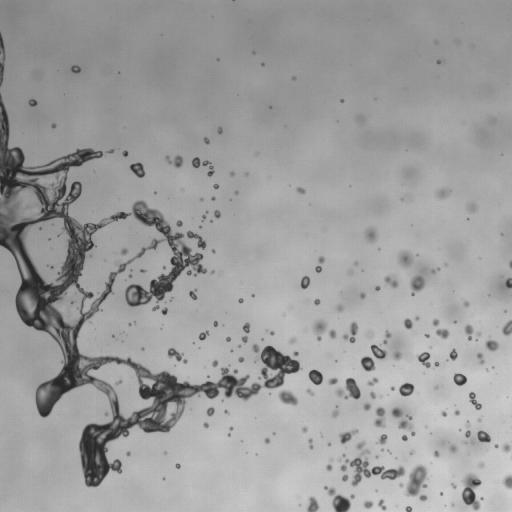droplet: (404, 464, 429, 501), (323, 485, 355, 511), (311, 318, 336, 342), (334, 377, 361, 399), (342, 321, 358, 343), (278, 389, 298, 406), (409, 275, 425, 296), (338, 428, 358, 444), (397, 250, 414, 268), (370, 344, 387, 361), (416, 352, 433, 369), (373, 406, 386, 428), (129, 162, 145, 178), (308, 369, 323, 385), (364, 226, 378, 243), (165, 155, 183, 168), (360, 356, 375, 371), (398, 382, 414, 396), (453, 372, 467, 386), (306, 496, 319, 511), (435, 187, 451, 199), (384, 275, 398, 288), (485, 339, 499, 351), (445, 348, 457, 362), (501, 319, 511, 335), (477, 430, 490, 442), (299, 275, 310, 289), (435, 328, 449, 339), (464, 324, 473, 340), (502, 474, 511, 489), (501, 440, 511, 453), (466, 202, 477, 213), (66, 205, 77, 216), (75, 214, 86, 225), (163, 214, 174, 225), (186, 238, 197, 249), (158, 240, 169, 251), (188, 243, 199, 254), (131, 258, 142, 269), (406, 266, 417, 277), (391, 267, 402, 278), (422, 274, 433, 285), (186, 276, 197, 287), (112, 280, 123, 291), (139, 302, 150, 313), (312, 308, 323, 319), (305, 314, 316, 325), (247, 331, 258, 342), (492, 331, 503, 342), (442, 338, 453, 349), (240, 344, 251, 355), (279, 345, 290, 356), (88, 347, 99, 358), (243, 348, 254, 359), (450, 361, 461, 372), (50, 365, 61, 376), (297, 367, 308, 378), (354, 367, 365, 378), (210, 371, 221, 382), (355, 378, 366, 389), (281, 379, 292, 390), (60, 391, 71, 402), (184, 395, 195, 406), (209, 396, 220, 407), (220, 415, 231, 426), (410, 418, 421, 429), (383, 423, 394, 434), (129, 424, 140, 435), (333, 441, 344, 452), (368, 441, 379, 452), (70, 448, 81, 459), (73, 465, 84, 476), (331, 467, 342, 478), (399, 473, 410, 484), (407, 495, 418, 506), (375, 434, 387, 444), (377, 498, 386, 511), (355, 114, 365, 125), (198, 330, 209, 340), (366, 377, 378, 386), (331, 405, 339, 418), (403, 318, 412, 329), (189, 288, 197, 300), (334, 303, 344, 312), (364, 330, 374, 339), (70, 65, 81, 73), (327, 377, 338, 385), (393, 351, 402, 360), (78, 141, 87, 150), (182, 157, 191, 166), (21, 159, 30, 168), (82, 159, 91, 168), (209, 174, 218, 183), (207, 202, 216, 211), (123, 204, 132, 213), (375, 229, 384, 238), (356, 230, 365, 239), (374, 236, 383, 245), (390, 254, 399, 263), (307, 269, 316, 278), (141, 281, 150, 290), (365, 288, 374, 297), (427, 325, 436, 334), (320, 330, 329, 339), (231, 335, 240, 344), (481, 347, 490, 356), (150, 365, 159, 374), (365, 369, 374, 378), (337, 379, 346, 388), (83, 382, 92, 391), (258, 386, 267, 395), (335, 396, 344, 405), (207, 397, 216, 406), (370, 399, 379, 408), (52, 401, 61, 410), (103, 403, 112, 412), (400, 406, 409, 415), (383, 410, 392, 419), (97, 416, 106, 425), (374, 426, 383, 435), (73, 431, 82, 440), (104, 440, 113, 449), (439, 446, 448, 455), (105, 453, 114, 462), (331, 461, 340, 470), (403, 465, 412, 474), (346, 466, 355, 475), (474, 470, 483, 479), (456, 481, 465, 490), (472, 485, 481, 494), (287, 336, 297, 344), (206, 406, 214, 416), (363, 500, 373, 508), (213, 209, 221, 218), (449, 444, 457, 453), (505, 277, 511, 288), (369, 505, 380, 511), (463, 505, 474, 511), (306, 388, 314, 396), (363, 402, 371, 410), (28, 99, 37, 106), (296, 187, 305, 194), (440, 408, 447, 417), (120, 248, 128, 255), (46, 264, 54, 271), (432, 318, 439, 326), (369, 391, 376, 399), (313, 298, 320, 305), (450, 482, 457, 489), (2, 68, 9, 75), (3, 103, 10, 110), (6, 112, 13, 119), (7, 122, 14, 129), (6, 141, 13, 148), (115, 149, 122, 156), (68, 165, 75, 172), (202, 165, 209, 172), (435, 182, 442, 189), (210, 188, 217, 195), (443, 196, 450, 203), (147, 202, 154, 209), (111, 207, 118, 214), (206, 212, 213, 219), (178, 226, 185, 233), (169, 228, 176, 235), (204, 243, 211, 250), (195, 246, 202, 253), (409, 248, 416, 255), (166, 250, 173, 257), (412, 256, 419, 263), (166, 263, 173, 270), (352, 265, 359, 272), (162, 268, 169, 275), (14, 279, 21, 286), (377, 279, 384, 286), (163, 290, 170, 297), (158, 300, 165, 307), (9, 303, 16, 310), (10, 306, 17, 313), (92, 311, 99, 318), (499, 319, 506, 326), (81, 321, 88, 328), (437, 322, 444, 329), (325, 323, 332, 330), (471, 325, 478, 332), (77, 328, 84, 335), (38, 329, 45, 336), (335, 330, 342, 337), (429, 330, 436, 337), (246, 338, 253, 345), (257, 343, 264, 350), (274, 344, 281, 351), (77, 347, 84, 354), (235, 349, 242, 356), (100, 350, 107, 357), (366, 350, 373, 357), (385, 351, 392, 358), (119, 352, 126, 359), (398, 356, 405, 363), (140, 360, 147, 367), (217, 360, 224, 367), (233, 361, 240, 368), (234, 372, 241, 379), (283, 372, 290, 379), (321, 375, 328, 382), (176, 376, 183, 383), (188, 378, 195, 385), (244, 380, 251, 387), (307, 381, 314, 388), (277, 384, 284, 391), (370, 384, 377, 391), (218, 386, 225, 393), (198, 390, 205, 397), (292, 390, 299, 397), (230, 392, 237, 399), (249, 393, 256, 400), (474, 395, 481, 402), (285, 402, 292, 409), (369, 405, 376, 412), (31, 407, 38, 414), (446, 409, 453, 416), (399, 413, 406, 420), (204, 415, 211, 422), (394, 416, 401, 423), (86, 417, 93, 424), (469, 417, 476, 424), (340, 426, 347, 433), (153, 430, 160, 437), (303, 431, 310, 438), (470, 431, 477, 438), (489, 437, 496, 444), (454, 440, 461, 447), (382, 441, 389, 448), (391, 462, 398, 469), (107, 468, 114, 475), (347, 474, 354, 481), (394, 475, 401, 482), (400, 485, 407, 492), (342, 491, 349, 498), (371, 498, 378, 505), (303, 499, 310, 506), (203, 136, 209, 144), (161, 307, 167, 315), (212, 359, 218, 367), (465, 420, 471, 428), (506, 269, 511, 278), (506, 311, 511, 320), (506, 467, 511, 476), (299, 506, 308, 511), (445, 506, 454, 511), (122, 150, 128, 157), (176, 220, 182, 227), (359, 292, 365, 299), (463, 301, 470, 307), (115, 379, 122, 385), (301, 426, 307, 433), (401, 434, 407, 441), (264, 437, 270, 444), (433, 450, 439, 457), (478, 461, 484, 468), (342, 474, 348, 481), (436, 59, 444, 64), (217, 126, 222, 134), (139, 269, 147, 274), (213, 183, 219, 189), (347, 269, 353, 275), (374, 285, 380, 291), (225, 336, 231, 342), (238, 356, 244, 362), (454, 409, 460, 415), (203, 422, 209, 428), (409, 449, 415, 455), (213, 320, 218, 327), (465, 430, 470, 437), (405, 506, 412, 511), (230, 171, 235, 177), (238, 298, 244, 303), (424, 333, 430, 338), (434, 362, 440, 367), (175, 463, 180, 469), (398, 481, 403, 487), (507, 487, 511, 494), (328, 507, 335, 511), (346, 507, 353, 511), (365, 507, 372, 511), (51, 123, 56, 128), (293, 351, 298, 356), (224, 409, 229, 414), (469, 439, 474, 444), (2, 40, 7, 45), (435, 54, 440, 59), (73, 72, 78, 77), (1, 79, 6, 84), (31, 105, 36, 110), (49, 118, 54, 123), (46, 122, 51, 127), (221, 127, 226, 132), (207, 135, 212, 140), (92, 146, 97, 151), (120, 146, 125, 151), (71, 147, 76, 152), (21, 148, 26, 153), (63, 150, 68, 155), (178, 151, 183, 156), (190, 153, 195, 158), (169, 155, 174, 160), (131, 158, 136, 163), (162, 159, 167, 164), (169, 162, 174, 167), (142, 165, 147, 170), (129, 170, 134, 175), (300, 183, 305, 188), (65, 186, 70, 191), (80, 186, 85, 191), (291, 186, 296, 191), (297, 192, 302, 197), (230, 193, 235, 198), (136, 196, 141, 201), (75, 197, 80, 202), (219, 210, 224, 215), (219, 213, 224, 218), (212, 216, 217, 221), (93, 219, 98, 224), (191, 228, 196, 233), (156, 242, 161, 247), (144, 249, 149, 254), (189, 250, 194, 255), (318, 251, 323, 256), (141, 253, 146, 258), (134, 257, 139, 262), (198, 259, 203, 264), (314, 260, 319, 265), (504, 261, 509, 266), (319, 262, 324, 267), (438, 262, 443, 267), (125, 264, 130, 269), (350, 264, 355, 269), (183, 266, 188, 271), (13, 267, 18, 272), (206, 267, 211, 272), (180, 269, 185, 274), (197, 271, 202, 276), (381, 272, 386, 277), (501, 278, 506, 283), (296, 279, 301, 284), (171, 280, 176, 285), (110, 284, 115, 289), (360, 287, 365, 292), (408, 287, 413, 292), (414, 290, 419, 295), (106, 293, 111, 298), (355, 294, 360, 299), (364, 294, 369, 299), (120, 295, 125, 300), (151, 295, 156, 300), (186, 295, 191, 300), (465, 296, 470, 301), (458, 299, 463, 304), (340, 300, 345, 305), (98, 303, 103, 308), (135, 304, 140, 309), (467, 304, 472, 309), (461, 305, 466, 310), (156, 308, 161, 313), (337, 311, 342, 316), (435, 314, 440, 319), (89, 315, 94, 320), (410, 318, 415, 323), (427, 319, 432, 324), (217, 320, 222, 325), (239, 321, 244, 326), (21, 322, 26, 327), (400, 323, 405, 328), (28, 325, 33, 330), (248, 325, 253, 330), (497, 327, 502, 332), (240, 330, 245, 335), (470, 332, 475, 337), (286, 333, 291, 338), (353, 333, 358, 338), (463, 333, 468, 338), (312, 334, 317, 339), (380, 334, 385, 339), (435, 334, 440, 339), (446, 334, 451, 339), (204, 335, 209, 340), (75, 336, 80, 341), (484, 336, 489, 341), (386, 337, 391, 342), (237, 338, 242, 343), (370, 339, 375, 344), (52, 340, 57, 345), (373, 340, 378, 345), (167, 343, 172, 348), (379, 344, 384, 349), (232, 345, 237, 350), (175, 347, 180, 352), (397, 347, 402, 352), (424, 347, 429, 352), (110, 352, 115, 357), (400, 353, 405, 358), (289, 354, 294, 359), (370, 354, 375, 359), (171, 355, 176, 360), (209, 356, 214, 361), (130, 357, 135, 362), (426, 357, 431, 362), (474, 357, 479, 362), (438, 360, 443, 365), (207, 361, 212, 366), (260, 362, 265, 367), (298, 362, 303, 367), (482, 362, 487, 367), (308, 365, 313, 370), (359, 366, 364, 371), (317, 367, 322, 372), (456, 368, 461, 373), (168, 370, 173, 375), (227, 370, 232, 375), (347, 373, 352, 378), (400, 379, 405, 384), (408, 379, 413, 384), (451, 382, 456, 387), (462, 382, 467, 387), (33, 383, 38, 388), (331, 383, 336, 388), (394, 385, 399, 390), (412, 386, 417, 391), (374, 391, 379, 396), (101, 392, 106, 397), (305, 393, 310, 398), (405, 394, 410, 399), (348, 395, 353, 400), (402, 395, 407, 400), (223, 396, 228, 401), (465, 396, 470, 401), (469, 403, 474, 408), (455, 405, 460, 410), (480, 405, 485, 410), (337, 406, 342, 411), (477, 408, 482, 413), (181, 411, 186, 416), (202, 411, 207, 416), (212, 411, 217, 416), (336, 413, 341, 418), (454, 414, 459, 419), (329, 416, 334, 421), (480, 416, 485, 421), (303, 421, 308, 426), (198, 422, 203, 427), (353, 423, 358, 428), (169, 426, 174, 431), (412, 426, 417, 431), (483, 427, 488, 432), (297, 428, 302, 433), (461, 428, 466, 433), (405, 431, 410, 436), (488, 433, 493, 438), (118, 434, 123, 439), (268, 434, 273, 439), (336, 436, 341, 441), (465, 436, 470, 441), (259, 437, 264, 442), (385, 437, 390, 442), (311, 440, 316, 445), (344, 440, 349, 445), (481, 440, 486, 445), (304, 441, 309, 446), (497, 442, 502, 447), (377, 443, 382, 448), (445, 443, 450, 448), (361, 444, 366, 449), (437, 448, 442, 453), (448, 451, 453, 456), (348, 456, 353, 461), (432, 456, 437, 461), (119, 457, 124, 462), (323, 460, 328, 465), (376, 461, 381, 466), (483, 461, 488, 466), (345, 462, 350, 467), (119, 464, 124, 469), (321, 465, 326, 470), (366, 465, 371, 470), (383, 465, 388, 470), (339, 470, 344, 475), (425, 472, 430, 477), (370, 473, 375, 478), (375, 473, 380, 478), (384, 477, 389, 482), (422, 478, 427, 483), (356, 481, 361, 486), (326, 483, 331, 488), (89, 485, 94, 490), (323, 489, 328, 494), (474, 495, 479, 500), (366, 496, 371, 501), (423, 499, 428, 504), (459, 499, 464, 504), (478, 499, 483, 504), (446, 503, 451, 508), (375, 453, 379, 459), (0, 193, 3, 200), (0, 244, 3, 251), (291, 76, 296, 80), (234, 190, 238, 195), (211, 248, 215, 253), (162, 265, 166, 270), (210, 269, 214, 274), (414, 316, 419, 320), (390, 386, 395, 390), (104, 411, 108, 416), (462, 440, 467, 444), (387, 449, 391, 454), (126, 451, 130, 456), (244, 172, 248, 176), (199, 197, 203, 201), (211, 196, 215, 200), (354, 261, 358, 265), (128, 274, 132, 278), (140, 347, 144, 351), (206, 374, 210, 378), (434, 385, 438, 389), (379, 394, 383, 398), (327, 442, 331, 446), (494, 444, 498, 448), (508, 287, 511, 292), (508, 332, 511, 337), (508, 441, 511, 446), (508, 449, 511, 454), (315, 508, 320, 511), (384, 508, 389, 511), (475, 508, 480, 511), (261, 62, 264, 66), (340, 99, 344, 102), (153, 191, 157, 194), (198, 225, 202, 228), (500, 232, 503, 236), (48, 237, 51, 241), (444, 262, 447, 266), (251, 293, 254, 297), (504, 309, 507, 313), (453, 320, 457, 323), (128, 322, 131, 326), (230, 348, 233, 352), (485, 368, 489, 371), (268, 391, 271, 395), (380, 448, 384, 451), (163, 451, 167, 454), (440, 492, 443, 496), (298, 503, 301, 507), (451, 502, 454, 506), (0, 53, 2, 58), (252, 51, 255, 54), (216, 58, 219, 61), (209, 219, 212, 222), (377, 247, 380, 250), (261, 338, 264, 341), (192, 341, 195, 344), (491, 366, 494, 369), (424, 425, 427, 428), (458, 428, 461, 431), (272, 432, 275, 435), (162, 477, 165, 480), (375, 489, 378, 492), (230, 0, 233, 3), (259, 59, 262, 62), (263, 60, 266, 63), (433, 60, 436, 63), (73, 62, 76, 65), (257, 63, 260, 66), (264, 63, 267, 66), (436, 63, 439, 66), (68, 64, 71, 67), (79, 65, 82, 68), (260, 65, 263, 68), (79, 70, 82, 73), (119, 70, 122, 73), (71, 71, 74, 74), (291, 79, 294, 82), (340, 95, 343, 98), (34, 97, 37, 100), (343, 98, 346, 101), (337, 100, 340, 103), (340, 102, 343, 105), (271, 105, 274, 108), (268, 108, 271, 111), (55, 124, 58, 127), (52, 127, 55, 130), (215, 131, 218, 134), (220, 132, 223, 135), (202, 141, 205, 144), (106, 147, 109, 150), (102, 151, 105, 154), (109, 152, 112, 155), (127, 152, 130, 155), (164, 152, 167, 155), (121, 155, 124, 158), (207, 158, 210, 161), (45, 160, 48, 163), (210, 162, 213, 165), (192, 166, 195, 169), (212, 167, 215, 170), (212, 172, 215, 175), (226, 172, 229, 175), (75, 178, 78, 181), (216, 181, 219, 184), (217, 186, 220, 189), (211, 187, 214, 190), (233, 187, 236, 190), (154, 188, 157, 191), (150, 190, 153, 193), (156, 191, 159, 194), (197, 195, 200, 198), (208, 196, 211, 199), (403, 196, 406, 199), (214, 197, 217, 200), (231, 198, 234, 201), (209, 199, 212, 202), (202, 211, 205, 214), (466, 214, 469, 217), (199, 216, 202, 219), (463, 216, 466, 219), (181, 219, 184, 222), (465, 219, 468, 222), (199, 222, 202, 225), (209, 222, 212, 225), (214, 248, 217, 251), (14, 265, 17, 268), (141, 266, 144, 269), (433, 266, 436, 269), (312, 268, 315, 271), (214, 270, 217, 273), (319, 270, 322, 273), (130, 271, 133, 274), (139, 271, 142, 274), (360, 271, 363, 274), (211, 273, 214, 276), (306, 285, 309, 288), (371, 287, 374, 290), (377, 289, 380, 292), (186, 290, 189, 293), (251, 290, 254, 293), (193, 291, 196, 294), (248, 292, 251, 295), (254, 293, 257, 296), (410, 295, 413, 298), (236, 296, 239, 299), (250, 296, 253, 299), (242, 297, 245, 300), (312, 297, 315, 300), (319, 299, 322, 302), (242, 300, 245, 303), (236, 301, 239, 304), (239, 302, 242, 305), (312, 303, 315, 306), (317, 303, 320, 306), (500, 309, 503, 312), (166, 310, 169, 313), (416, 313, 419, 316), (452, 317, 455, 320), (135, 320, 138, 323), (130, 321, 133, 324), (125, 323, 128, 326), (210, 323, 213, 326), (159, 324, 162, 327), (268, 328, 271, 331), (202, 329, 205, 332), (387, 329, 390, 332), (273, 330, 276, 333), (196, 332, 199, 335), (227, 333, 230, 336), (108, 334, 111, 337), (114, 334, 117, 337), (224, 334, 227, 337), (422, 335, 425, 338), (111, 337, 114, 340), (196, 337, 199, 340), (230, 338, 233, 341), (200, 339, 203, 342), (223, 339, 226, 342), (346, 339, 349, 342), (316, 340, 319, 343), (226, 341, 229, 344), (350, 342, 353, 345), (191, 343, 194, 346), (139, 344, 142, 347), (143, 345, 146, 348), (227, 347, 230, 350), (143, 348, 146, 351), (294, 348, 297, 351), (449, 348, 452, 351), (454, 348, 457, 351), (139, 349, 142, 352), (164, 350, 167, 353), (230, 351, 233, 354), (334, 356, 337, 359), (447, 356, 450, 359), (331, 359, 334, 362), (337, 359, 340, 362), (186, 360, 189, 363), (240, 361, 243, 364), (418, 361, 421, 364), (491, 362, 494, 365), (494, 365, 497, 368), (487, 366, 490, 369), (462, 372, 465, 375), (473, 390, 476, 393), (310, 395, 313, 398), (332, 404, 335, 407), (204, 407, 207, 410), (221, 408, 224, 411), (226, 408, 229, 411), (222, 412, 225, 415), (408, 412, 411, 415), (441, 415, 444, 418), (409, 419, 412, 422), (463, 419, 466, 422), (468, 419, 471, 422), (227, 424, 230, 427), (300, 424, 303, 427), (207, 426, 210, 429), (467, 427, 470, 430), (272, 428, 275, 431), (227, 429, 230, 432), (455, 429, 458, 432), (322, 432, 325, 435), (414, 432, 417, 435), (274, 433, 277, 436), (317, 433, 320, 436), (239, 436, 242, 439), (326, 439, 329, 442), (400, 439, 403, 442), (327, 445, 330, 448), (493, 447, 496, 450), (125, 448, 128, 451), (383, 448, 386, 451), (389, 448, 392, 451), (431, 450, 434, 453), (391, 451, 394, 454), (406, 451, 409, 454), (129, 452, 132, 455), (176, 460, 179, 463), (179, 462, 182, 465), (172, 463, 175, 466), (179, 465, 182, 468), (174, 467, 177, 470), (159, 476, 162, 479), (164, 476, 167, 479), (162, 479, 165, 482), (320, 485, 323, 488), (449, 485, 452, 488), (439, 488, 442, 491), (442, 491, 445, 494), (436, 492, 439, 495), (426, 495, 429, 498), (439, 495, 442, 498), (405, 503, 408, 506), (409, 504, 412, 507), (283, 312, 285, 316), (221, 398, 223, 402), (416, 253, 418, 256), (361, 269, 364, 271), (112, 334, 114, 337), (429, 346, 432, 348), (334, 360, 337, 362), (240, 440, 243, 442), (403, 509, 406, 511), (410, 509, 413, 511), (269, 106, 271, 108), (501, 153, 503, 155), (349, 185, 351, 187), (229, 198, 231, 200), (467, 218, 469, 220), (130, 269, 132, 271), (488, 294, 490, 296), (198, 346, 200, 348), (392, 364, 394, 366), (255, 453, 257, 455), (395, 457, 397, 459), (444, 504, 446, 506), (160, 328, 162, 329), (122, 340, 123, 342), (203, 366, 205, 367), (430, 432, 431, 434), (118, 72, 119, 73)
ligament: (391, 406, 415, 436), (191, 157, 214, 177), (237, 322, 250, 348), (167, 347, 187, 363), (469, 392, 481, 410), (315, 256, 324, 273), (325, 457, 334, 471), (383, 329, 391, 344), (476, 352, 485, 364), (201, 210, 208, 222), (430, 267, 441, 274), (400, 195, 412, 201), (227, 426, 233, 437), (307, 438, 313, 449), (475, 331, 481, 341), (265, 329, 274, 335), (476, 415, 482, 422), (105, 149, 114, 153), (509, 259, 511, 269), (169, 297, 173, 301), (320, 432, 323, 437), (133, 320, 136, 324), (510, 455, 511, 460), (232, 0, 235, 1)
